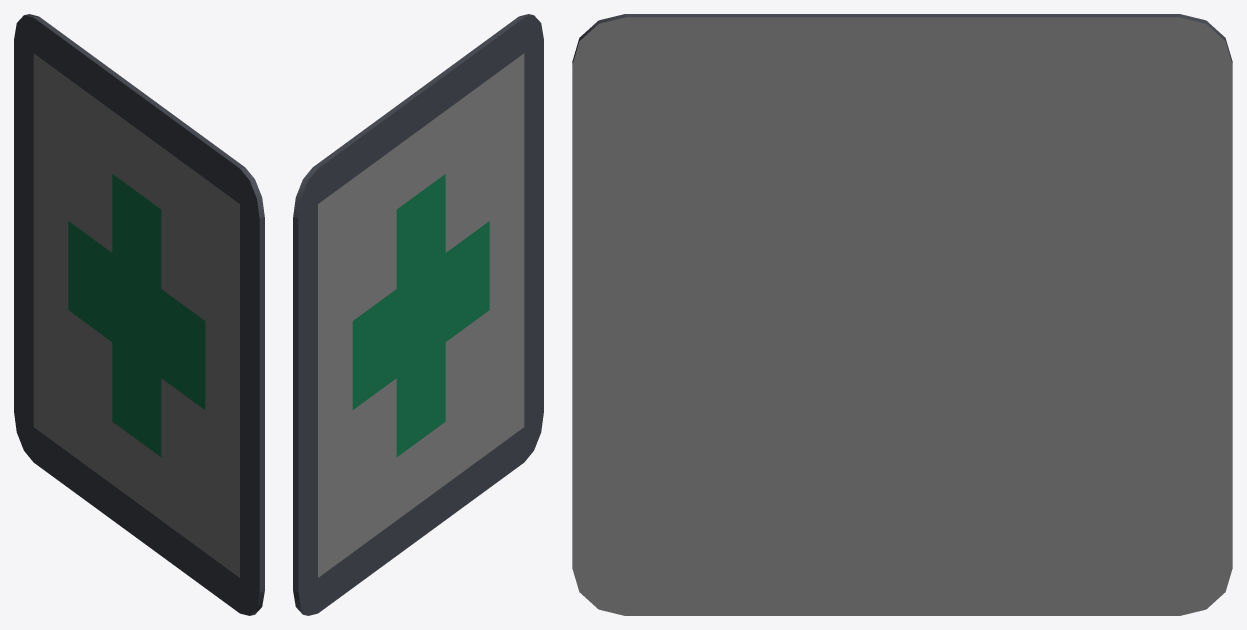
Rendered from sign_hospital.001.obj.
3 renders of one model, left to right at view 1: azimuth 30°, elevation 25°; view 2: azimuth 150°, elevation 25°; view 3: azimuth 270°, elevation 25°, orthographic. The views are drawn at different scales.
Parts seen in each view (by area): view 1: sign_hospital_sign_hospital.001; view 2: sign_hospital_sign_hospital.001; view 3: sign_hospital_sign_hospital.001.
Part boxes in pixels (x1,y1,x2,y2): sign_hospital_sign_hospital.001: (14, 14, 264, 615); sign_hospital_sign_hospital.001: (293, 14, 543, 615); sign_hospital_sign_hospital.001: (572, 14, 1232, 615).
Bounding box in the file's own units: 6 × 480 × 480.
